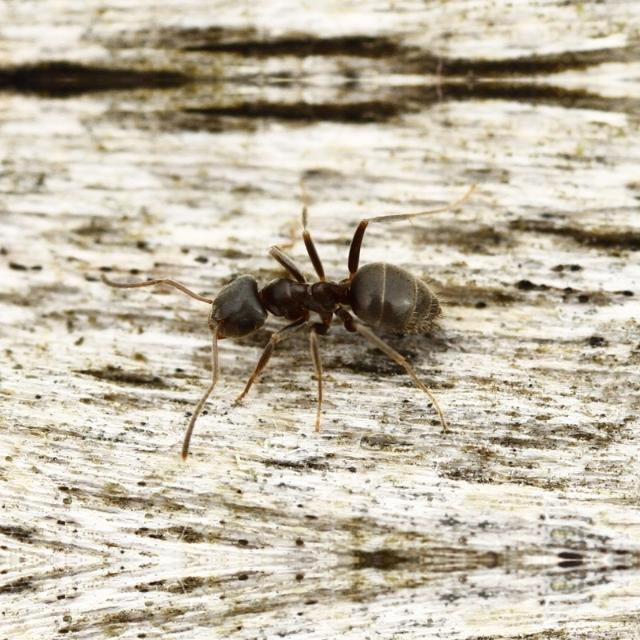Lasius: (158, 220, 430, 414)
